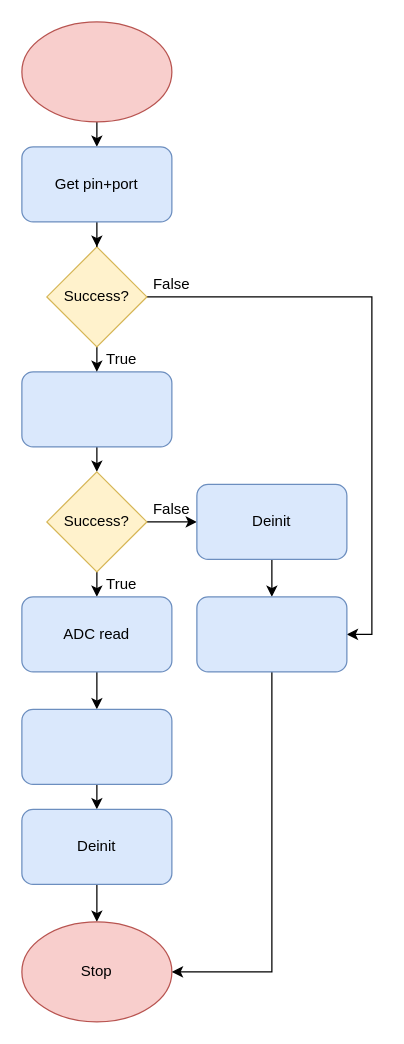
Some shapes in this 404 by 1044 pixel diagram are drawn without their labels. Here are the shapes that lost their labels. From the top down, the centre of each, then its label:
At point 96,71: "Start".
At point 96,409: "Init".
At point 271,634: "Error handler".
At point 96,746: "Set response".
